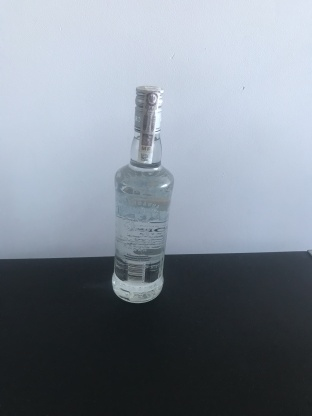nakretka: (131, 80, 166, 136)
